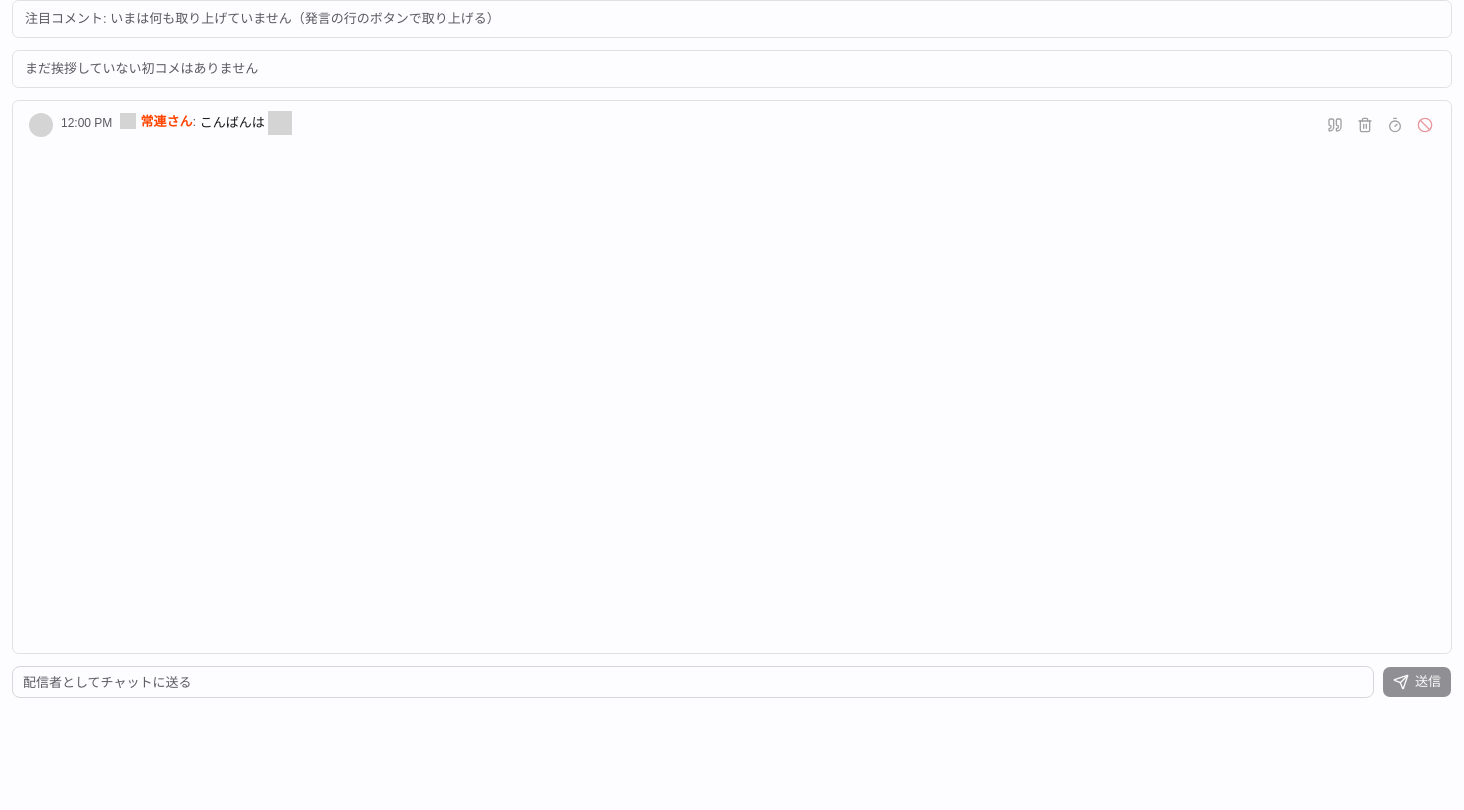
Test: CommentsPage › 注目コメント › ほかの画面で別の発言に取り上げ直されていたら、やめずに表示を合わせる（ほかの画面の選択を消さないため）
What coordinates should you click on to do the following:
click the button named "この発言を注目コメントにする"
I would click on:
 (1335, 125)
Its box is [1321, 111, 1349, 139].
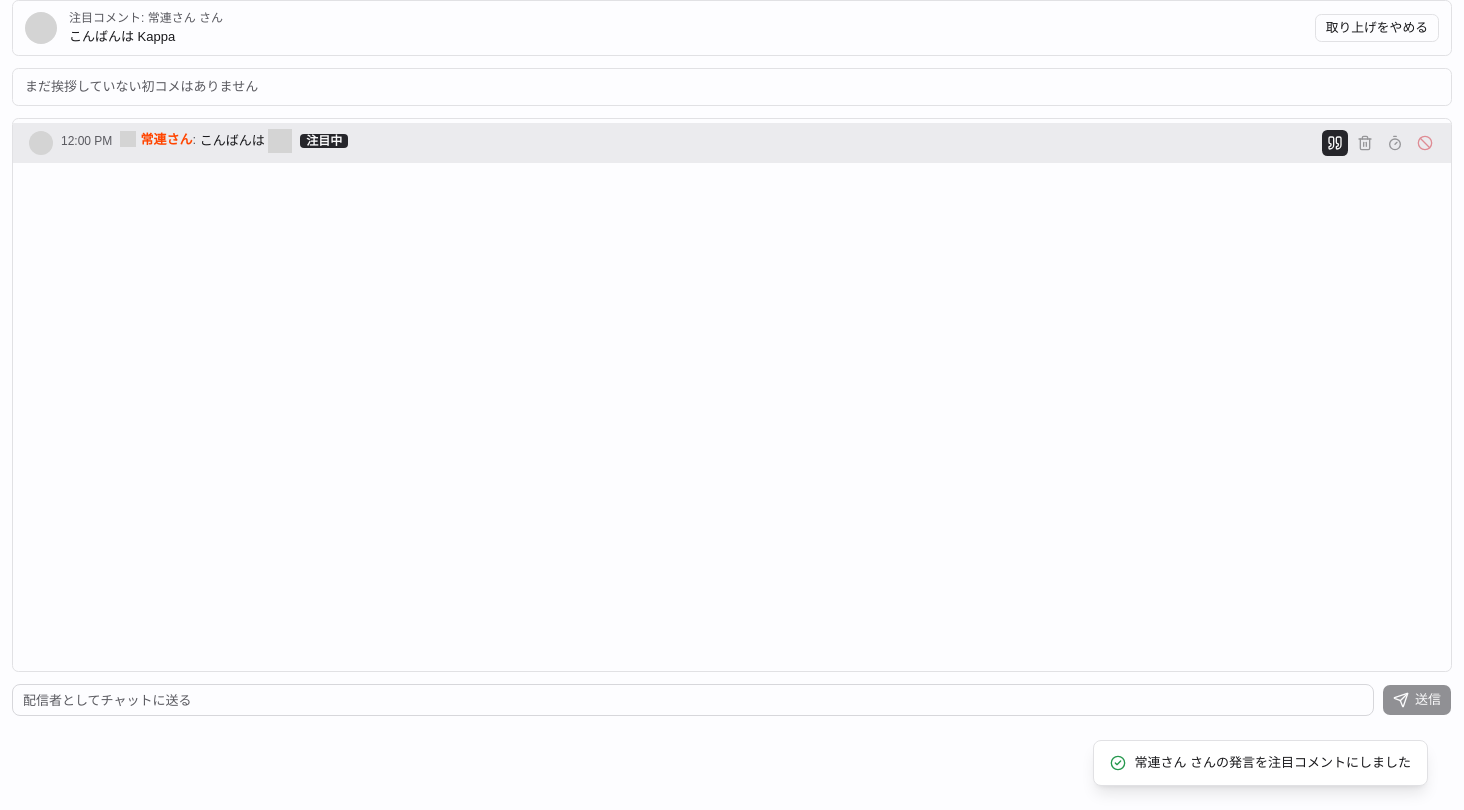
Now the text "常連さん さんの発言を注目コメントにしました" is shown, box [1093, 740, 1428, 786]
What coordinates should you click on to do the following:
click the button named "この発言を注目コメントにする"
I would click on:
 (1335, 143)
Its box is [1321, 129, 1349, 157].
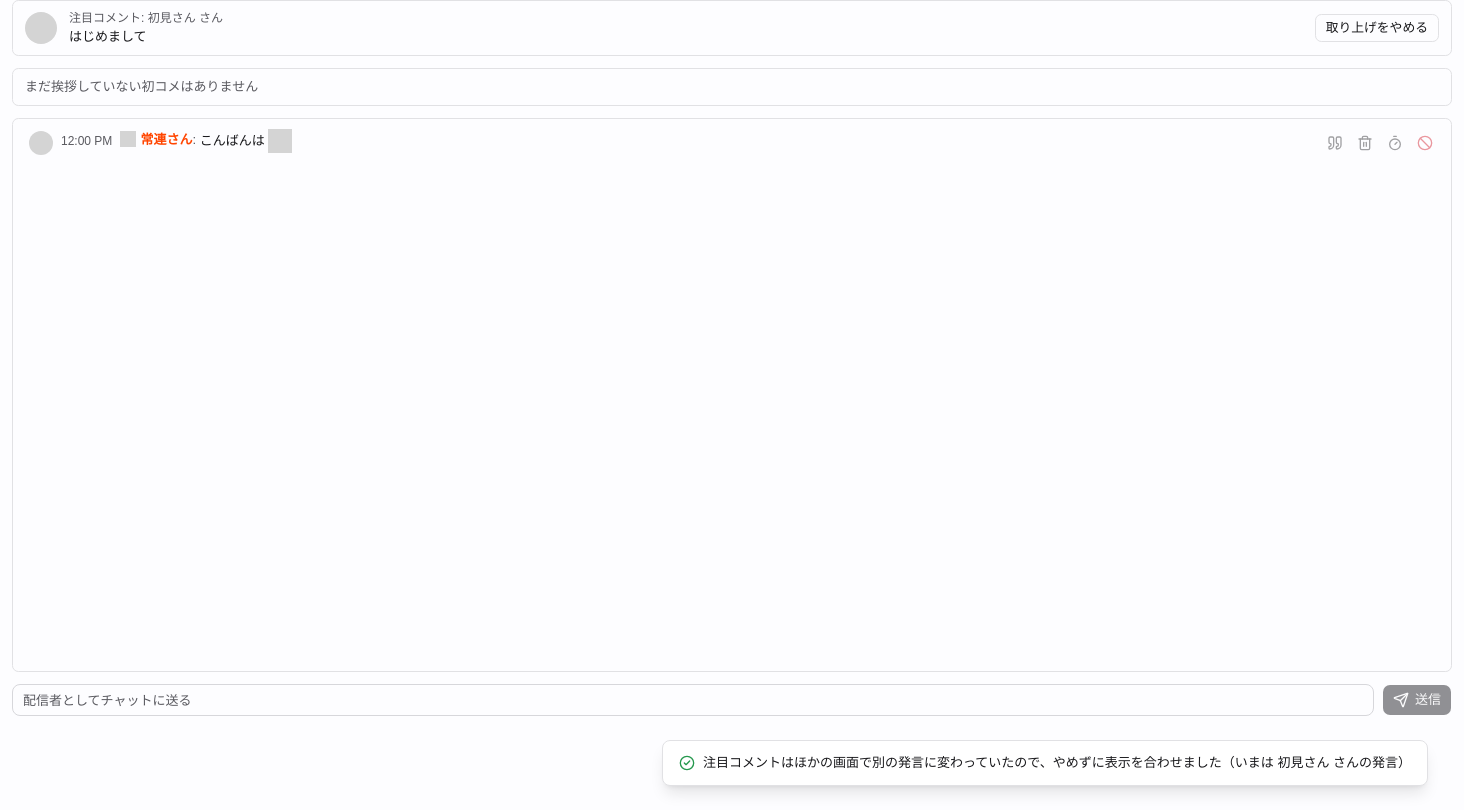
Now the text "注目コメントはほかの画面で別の発言に変わっていたので、やめずに表示を合わせました（いまは 初見さん さんの発言）" is shown, box [662, 740, 1428, 786]
Now the list item no longer shows "注目中", box [13, 123, 1451, 163]
